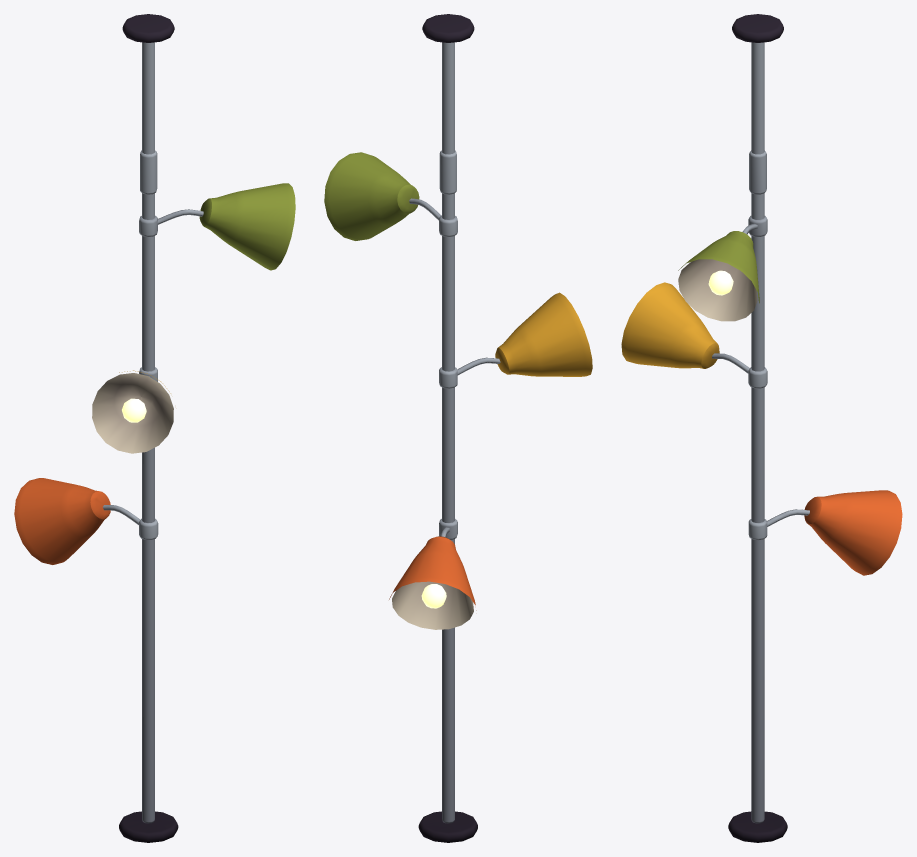
File: lamp_pole__324.glb
The picture shows the model from 3 angles, left to right: view 1: azimuth 30°, elevation 25°; view 2: azimuth 150°, elevation 25°; view 3: azimuth 270°, elevation 25°; orthographic projection.
Parts seen in each view (by area): view 1: merged_toon_ffffff_1, merged_toon_A8B0BA, merged_toon_F6E7C8, merged_toon_ffffff; view 2: merged_toon_ffffff_1, merged_toon_A8B0BA, merged_toon_F6E7C8, merged_toon_ffffff; view 3: merged_toon_ffffff_1, merged_toon_A8B0BA, merged_toon_F6E7C8, merged_toon_ffffff.
Part boxes in pixels (box(x1,y1,x2,y2)): merged_toon_ffffff_1: box(14, 183, 295, 564); merged_toon_A8B0BA: box(103, 42, 203, 823); merged_toon_F6E7C8: box(92, 373, 173, 453); merged_toon_ffffff: box(119, 14, 178, 842); merged_toon_ffffff_1: box(324, 152, 592, 610); merged_toon_A8B0BA: box(409, 42, 500, 823); merged_toon_F6E7C8: box(392, 581, 473, 629); merged_toon_ffffff: box(418, 14, 477, 842); merged_toon_ffffff_1: box(621, 231, 902, 575); merged_toon_A8B0BA: box(712, 42, 809, 823); merged_toon_F6E7C8: box(678, 259, 757, 321); merged_toon_ffffff: box(728, 14, 787, 842).
Size of the model in its own units: 0.7094 by 2.4 by 0.7561.
